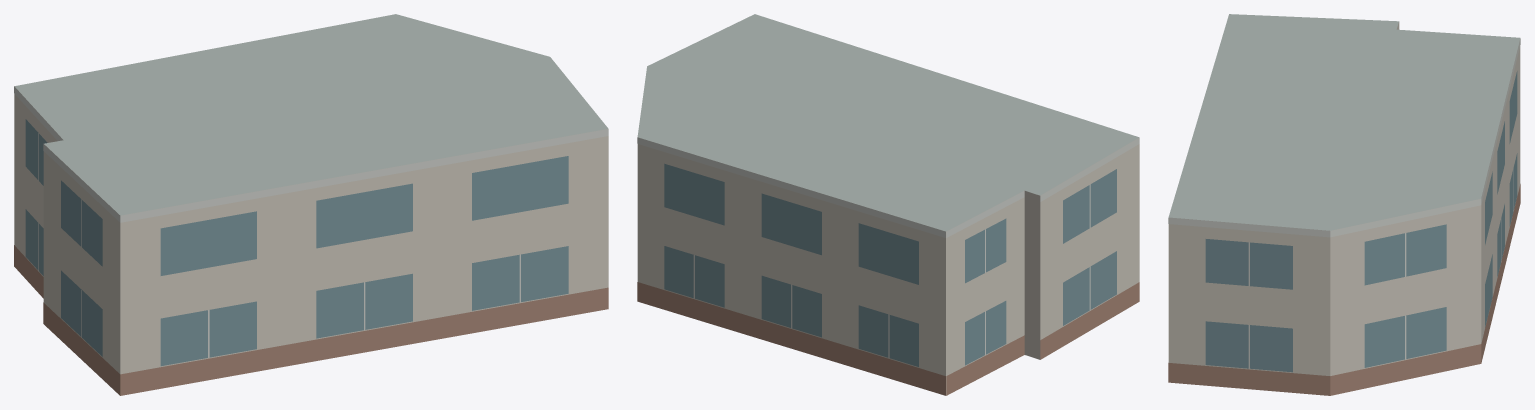
File: survey-upis-32585242.glb
3 renders of one model, left to right at view 1: azimuth 30°, elevation 25°; view 2: azimuth 150°, elevation 25°; view 3: azimuth 270°, elevation 25°, orthographic. The views are drawn at different scales.
Parts seen in each view (by area): view 1: survey-upis-32585242.tmp; view 2: survey-upis-32585242.tmp; view 3: survey-upis-32585242.tmp.
Part boxes in pixels (x1=…): survey-upis-32585242.tmp: x1=14, y1=14, x2=608, y2=395; survey-upis-32585242.tmp: x1=637, y1=14, x2=1139, y2=395; survey-upis-32585242.tmp: x1=1168, y1=14, x2=1520, y2=395.
Size of the model in its own units: 17.19 by 6.1 by 11.8.
